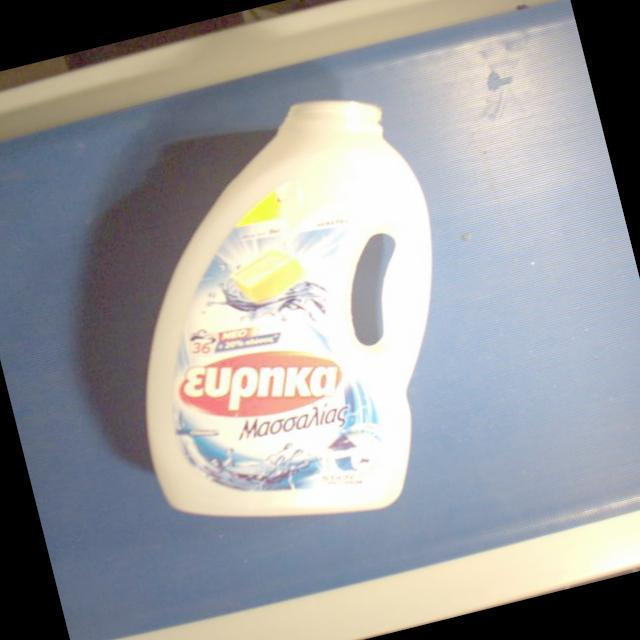HDPE Plastic: (139, 96, 437, 523)
